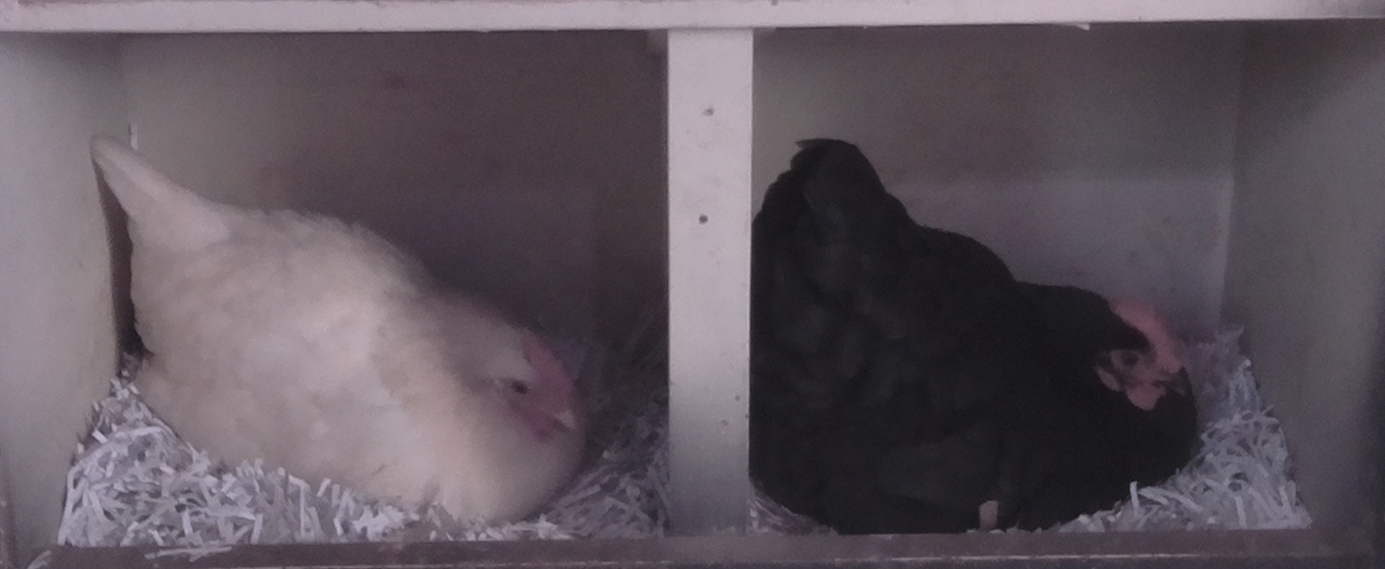Chicken: (730, 128, 1209, 536), (71, 123, 588, 501)
